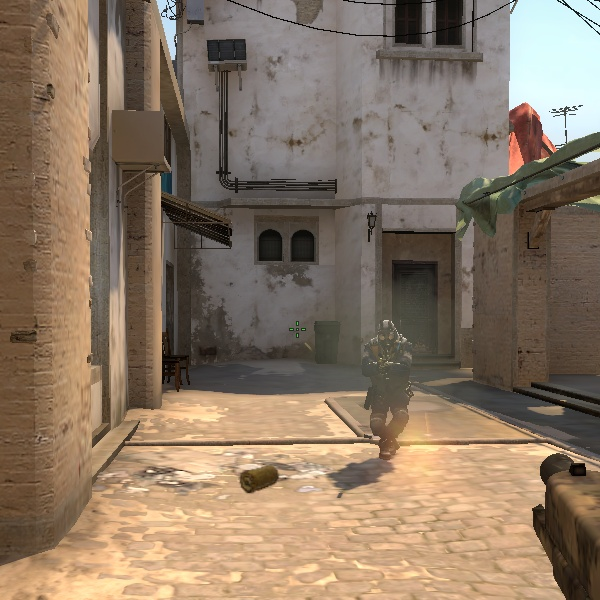ct_body: (355, 315, 418, 449)
ct_head: (373, 317, 404, 345)
